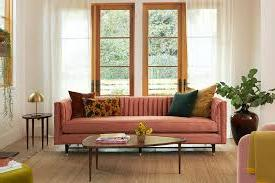chair: (235, 125, 275, 183)
door: (182, 2, 230, 94), (139, 3, 183, 95), (53, 2, 95, 95), (95, 2, 132, 97)
sofa: (52, 91, 234, 154)
table: (84, 135, 188, 181), (22, 112, 51, 152), (0, 160, 34, 183)
